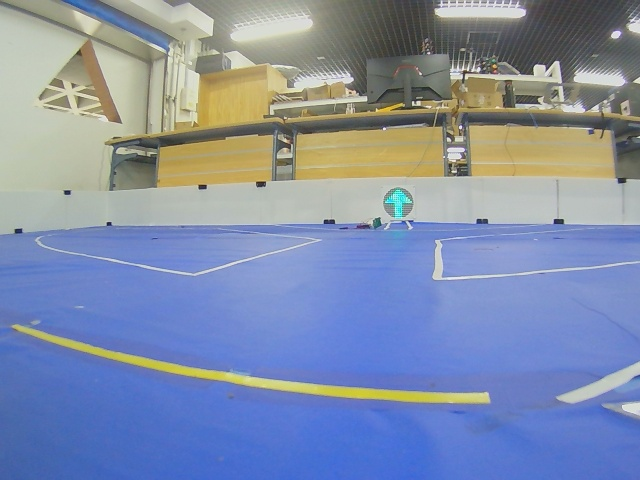straight_green: (383, 187, 414, 220)
